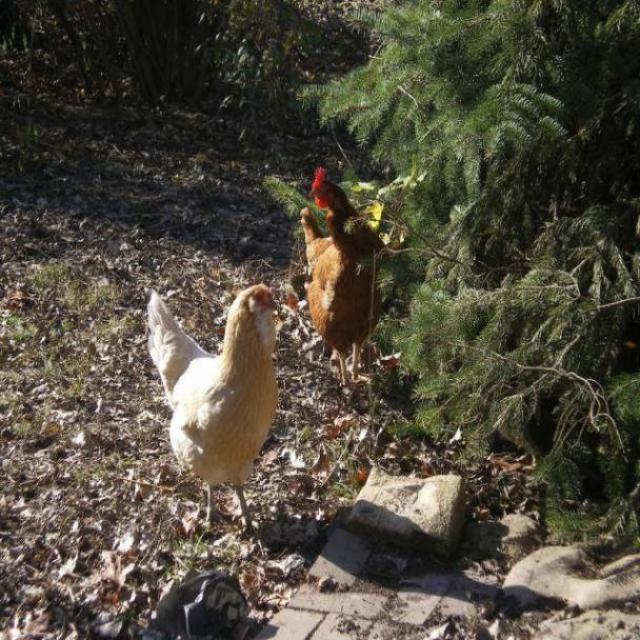Chicken: (151, 266, 283, 547), (299, 166, 396, 397)
